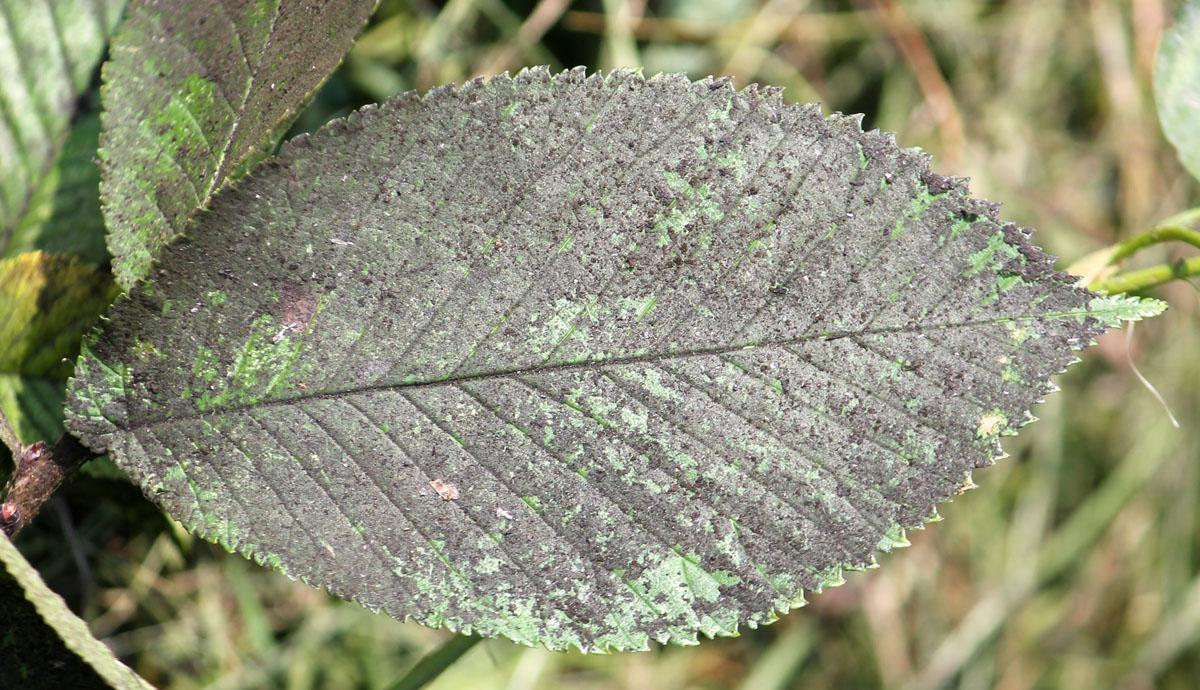soot dew: (64, 69, 1161, 650), (100, 0, 376, 288)
